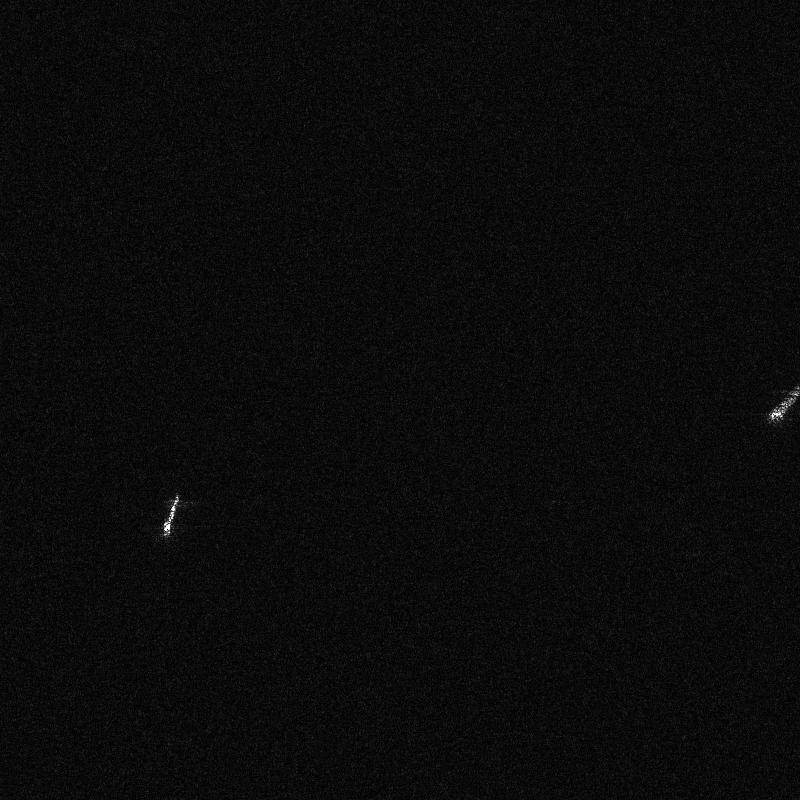ship: (768, 384, 799, 422), (163, 494, 180, 536)
